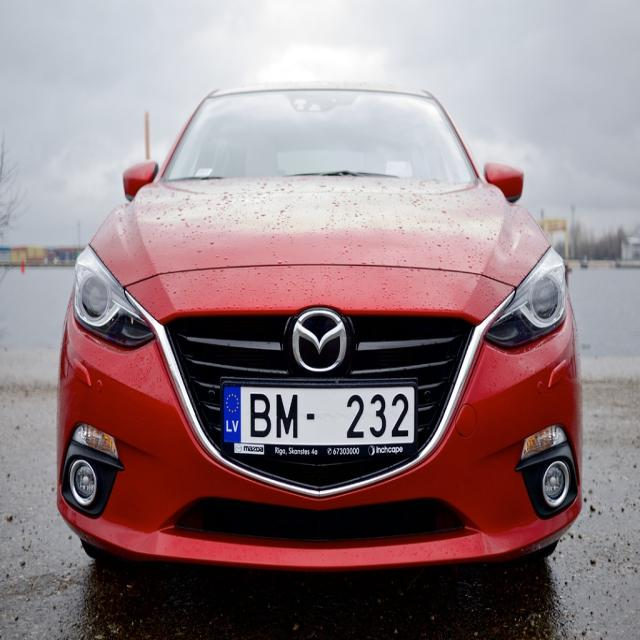car: (43, 84, 582, 584)
